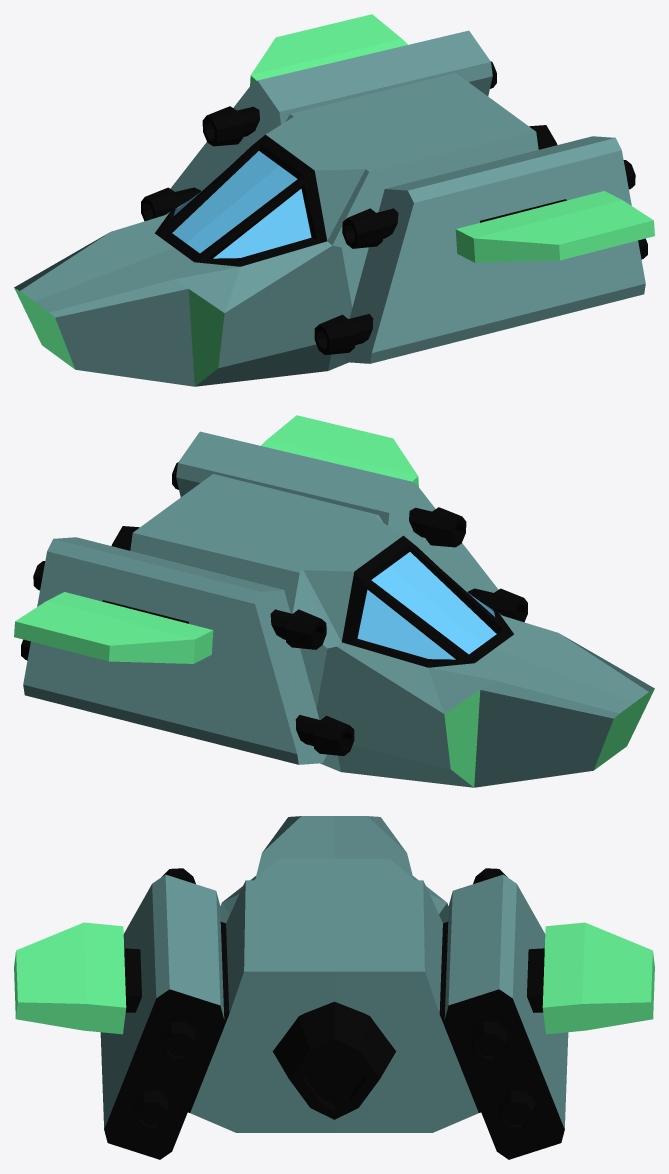
Rendered from gunship3.fbx.
3 renders of one model, top to bottom at view 1: azimuth 30°, elevation 25°; view 2: azimuth 150°, elevation 25°; view 3: azimuth 270°, elevation 25°, orthographic. The views are drawn at different scales.
Parts seen in each view (by area): view 1: Gunship3; view 2: Gunship3; view 3: Gunship3.
Part boxes in pixels (x1=…): Gunship3: x1=14, y1=14, x2=654, y2=386; Gunship3: x1=14, y1=415, x2=654, y2=787; Gunship3: x1=14, y1=816, x2=654, y2=1159.
Size of the model in its own units: 577 by 207 by 542.
